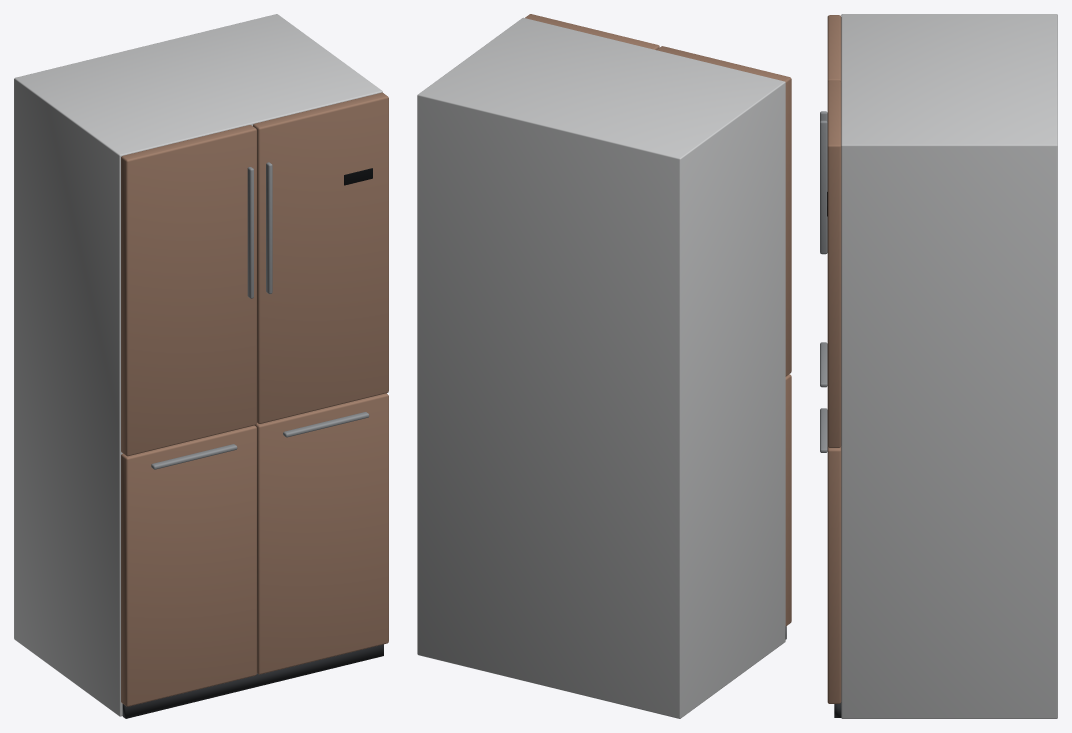
The model's file is M622GCB352S.glb.
3 views of the same model, side by side, from view 1: azimuth 30°, elevation 25°; view 2: azimuth 150°, elevation 25°; view 3: azimuth 270°, elevation 25° (orthographic). The views are drawn at different scales.
Visible parts, largest first — view 1: M622GCB352S; view 2: M622GCB352S; view 3: M622GCB352S.
Boxes of the visible parts, x1,y1,x2,y2 form: M622GCB352S: [14, 14, 388, 718]; M622GCB352S: [417, 14, 791, 718]; M622GCB352S: [820, 14, 1057, 718].
Size of the model in its own units: 0.914 by 1.86 by 0.698.
